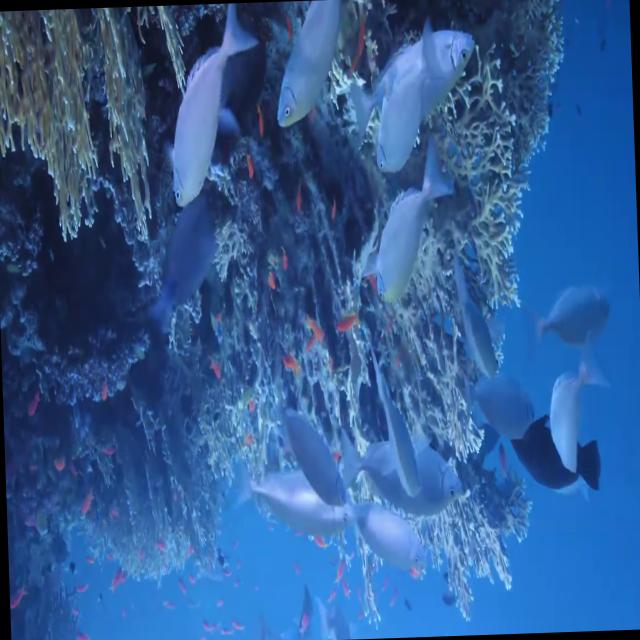fish: (166, 2, 253, 205), (347, 25, 478, 132), (373, 148, 458, 306), (370, 24, 450, 172), (342, 429, 463, 517), (360, 338, 425, 498), (270, 376, 348, 506), (270, 0, 344, 127), (546, 341, 608, 477), (509, 410, 604, 497), (240, 471, 358, 537), (444, 260, 502, 378), (462, 372, 540, 452), (532, 278, 612, 344)
